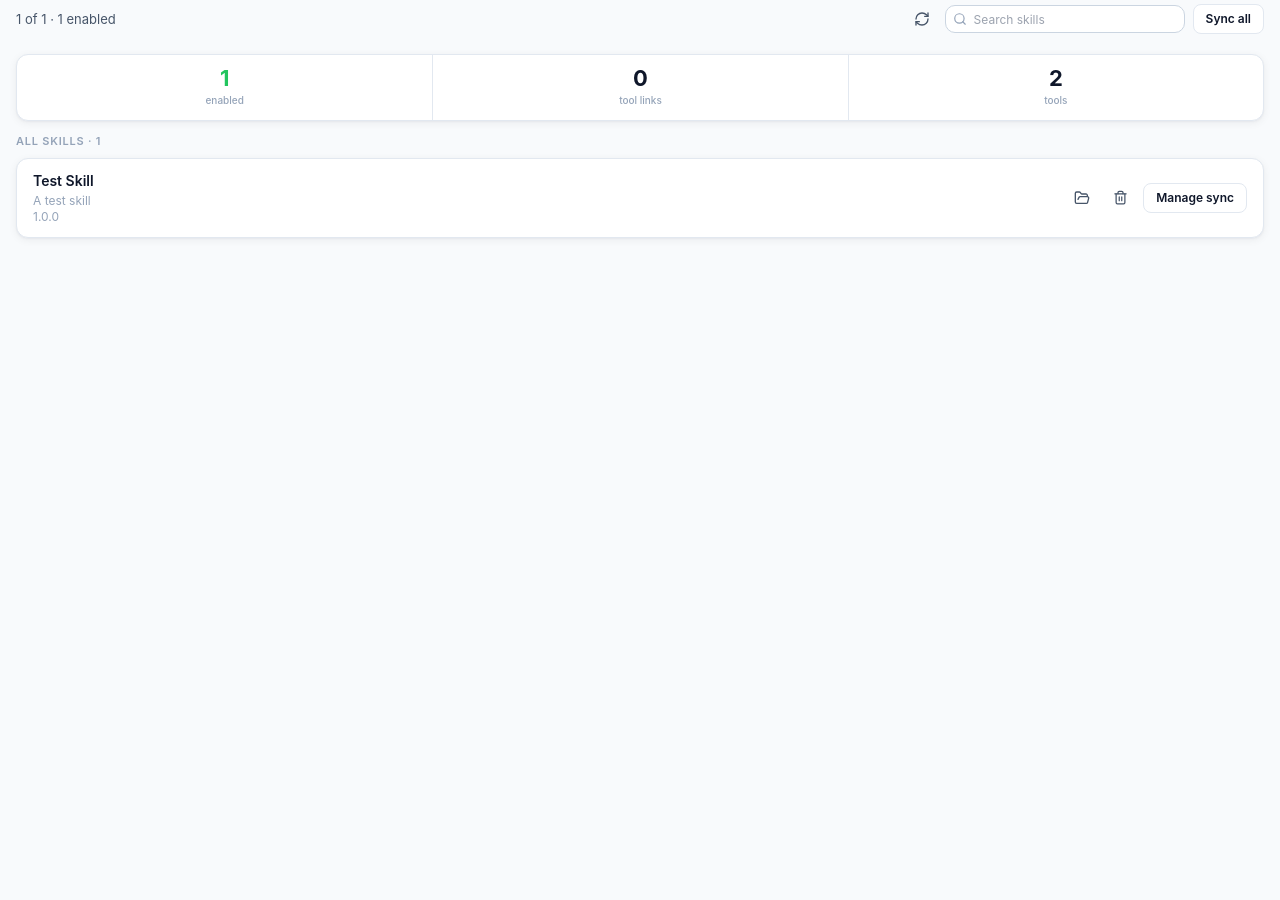
Test case: MySkillsPage › shows partial sync details when some tools fail during sync-all
Step 1. Click the button with aria-label "Manage sync for Test Skill" → (1195, 198), box top-left (1143, 182), bottom-right (1247, 212)
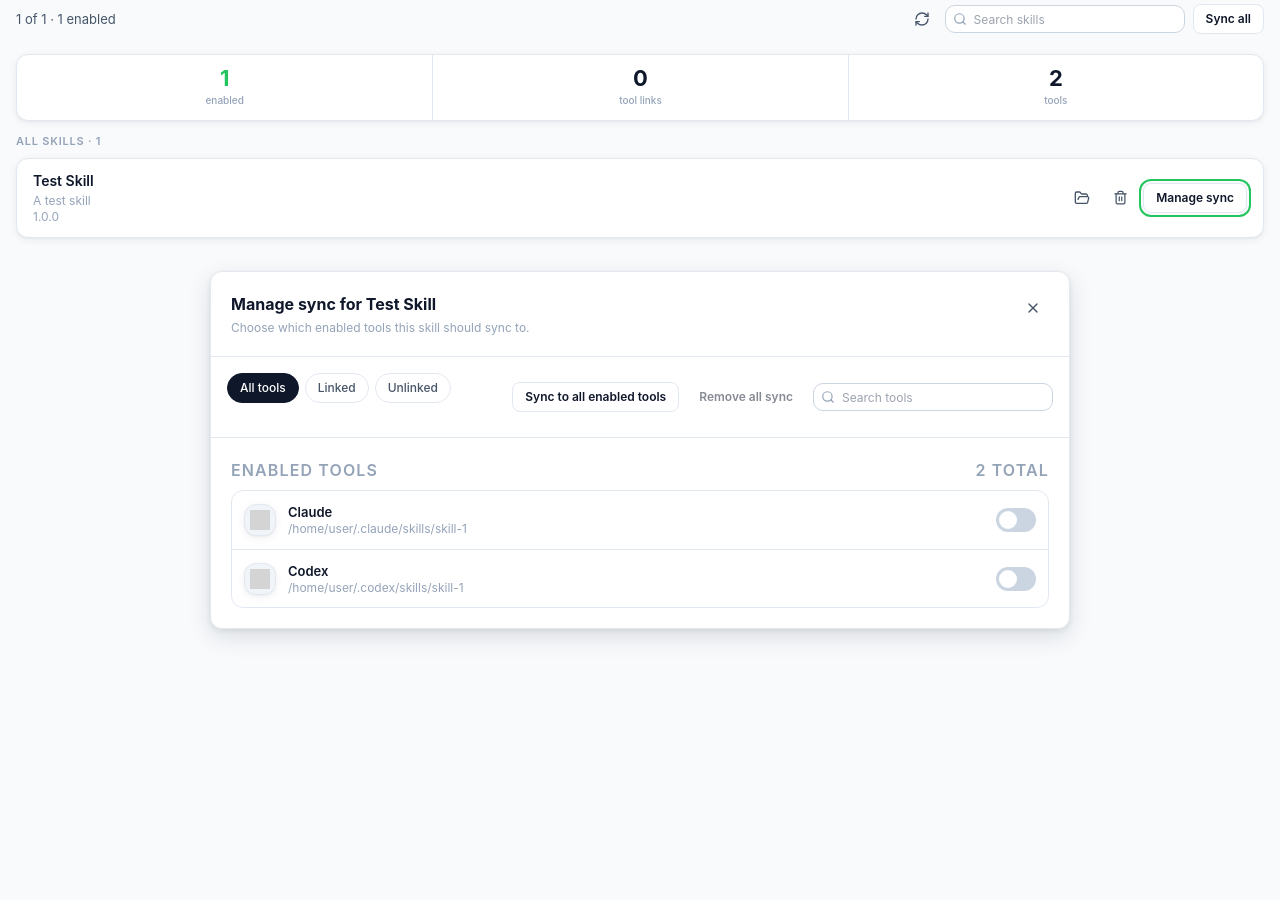
Step 2. Click the button "Sync to all enabled tools" → (596, 397), box top-left (512, 382), bottom-right (679, 412)
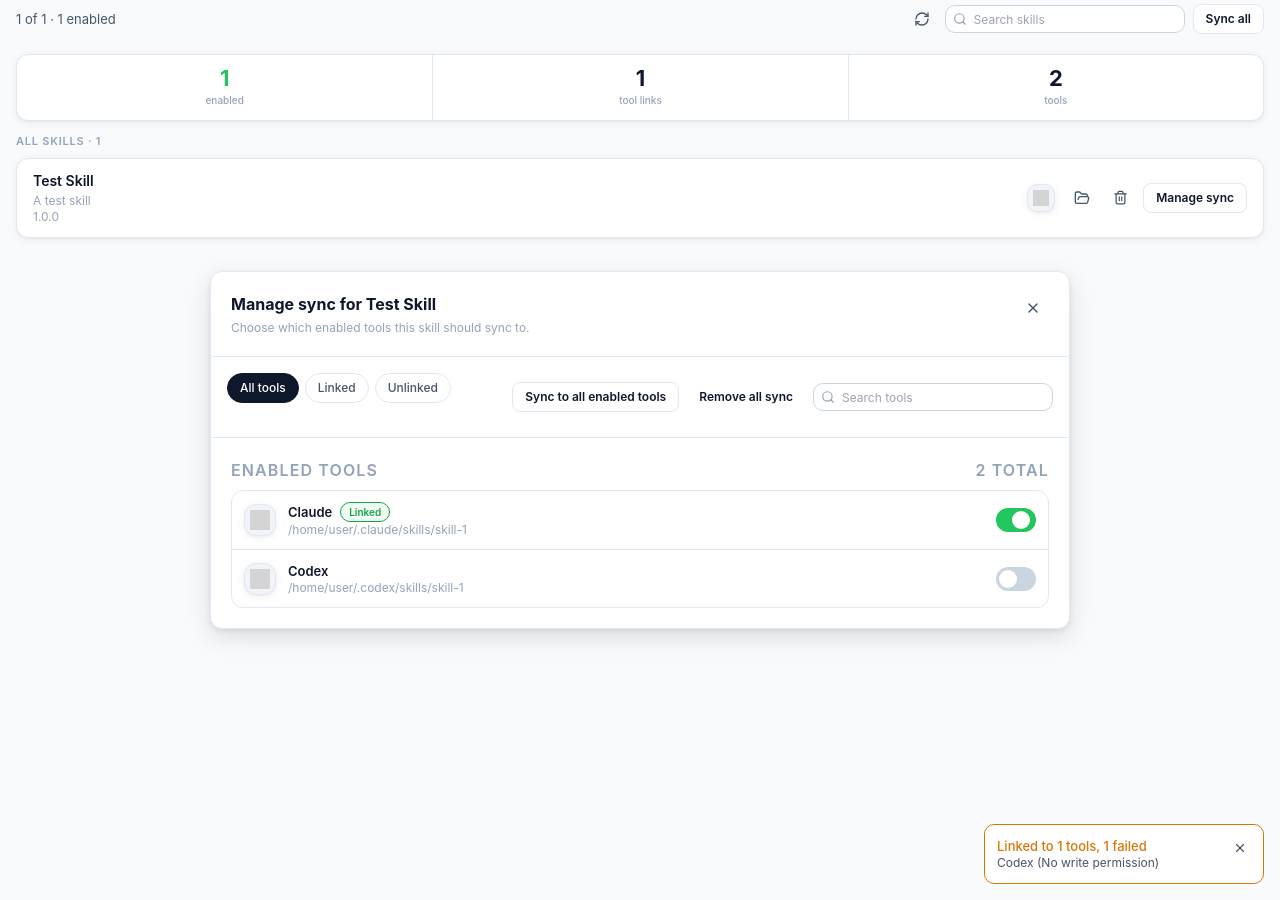
expect the text "Linked to 1 tools, 1 failed" is shown: met, box top-left (997, 838), bottom-right (1147, 854)
expect the text "Codex (No write permission)" is shown: met, box top-left (997, 855), bottom-right (1159, 870)
